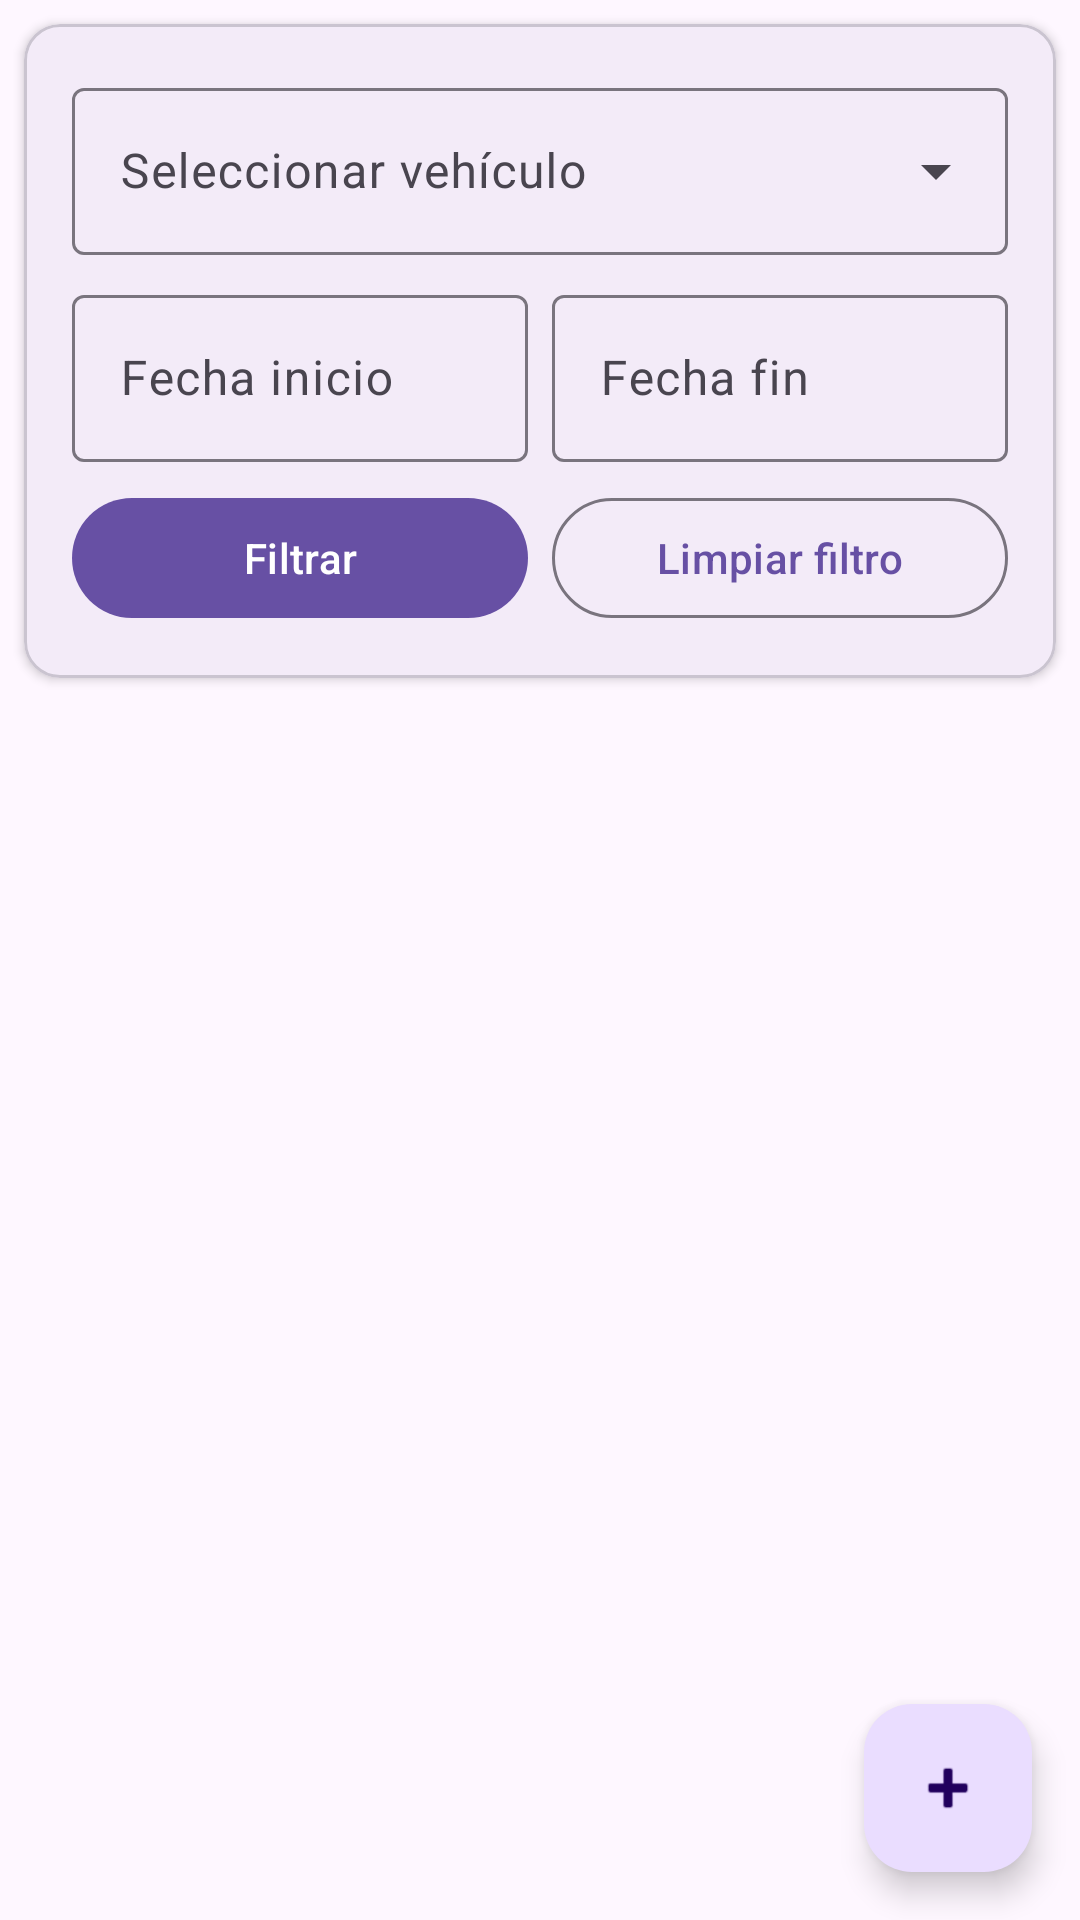

Screen size 1080*1920. Icon name, then its center in pixels as (x=x, y=y):
Agregar registro: (x=948, y=1788)
